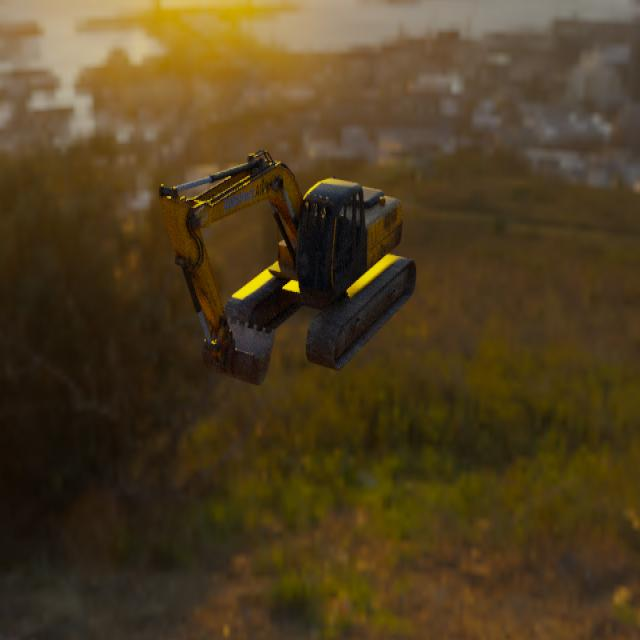excavator: (158, 148, 416, 385)
